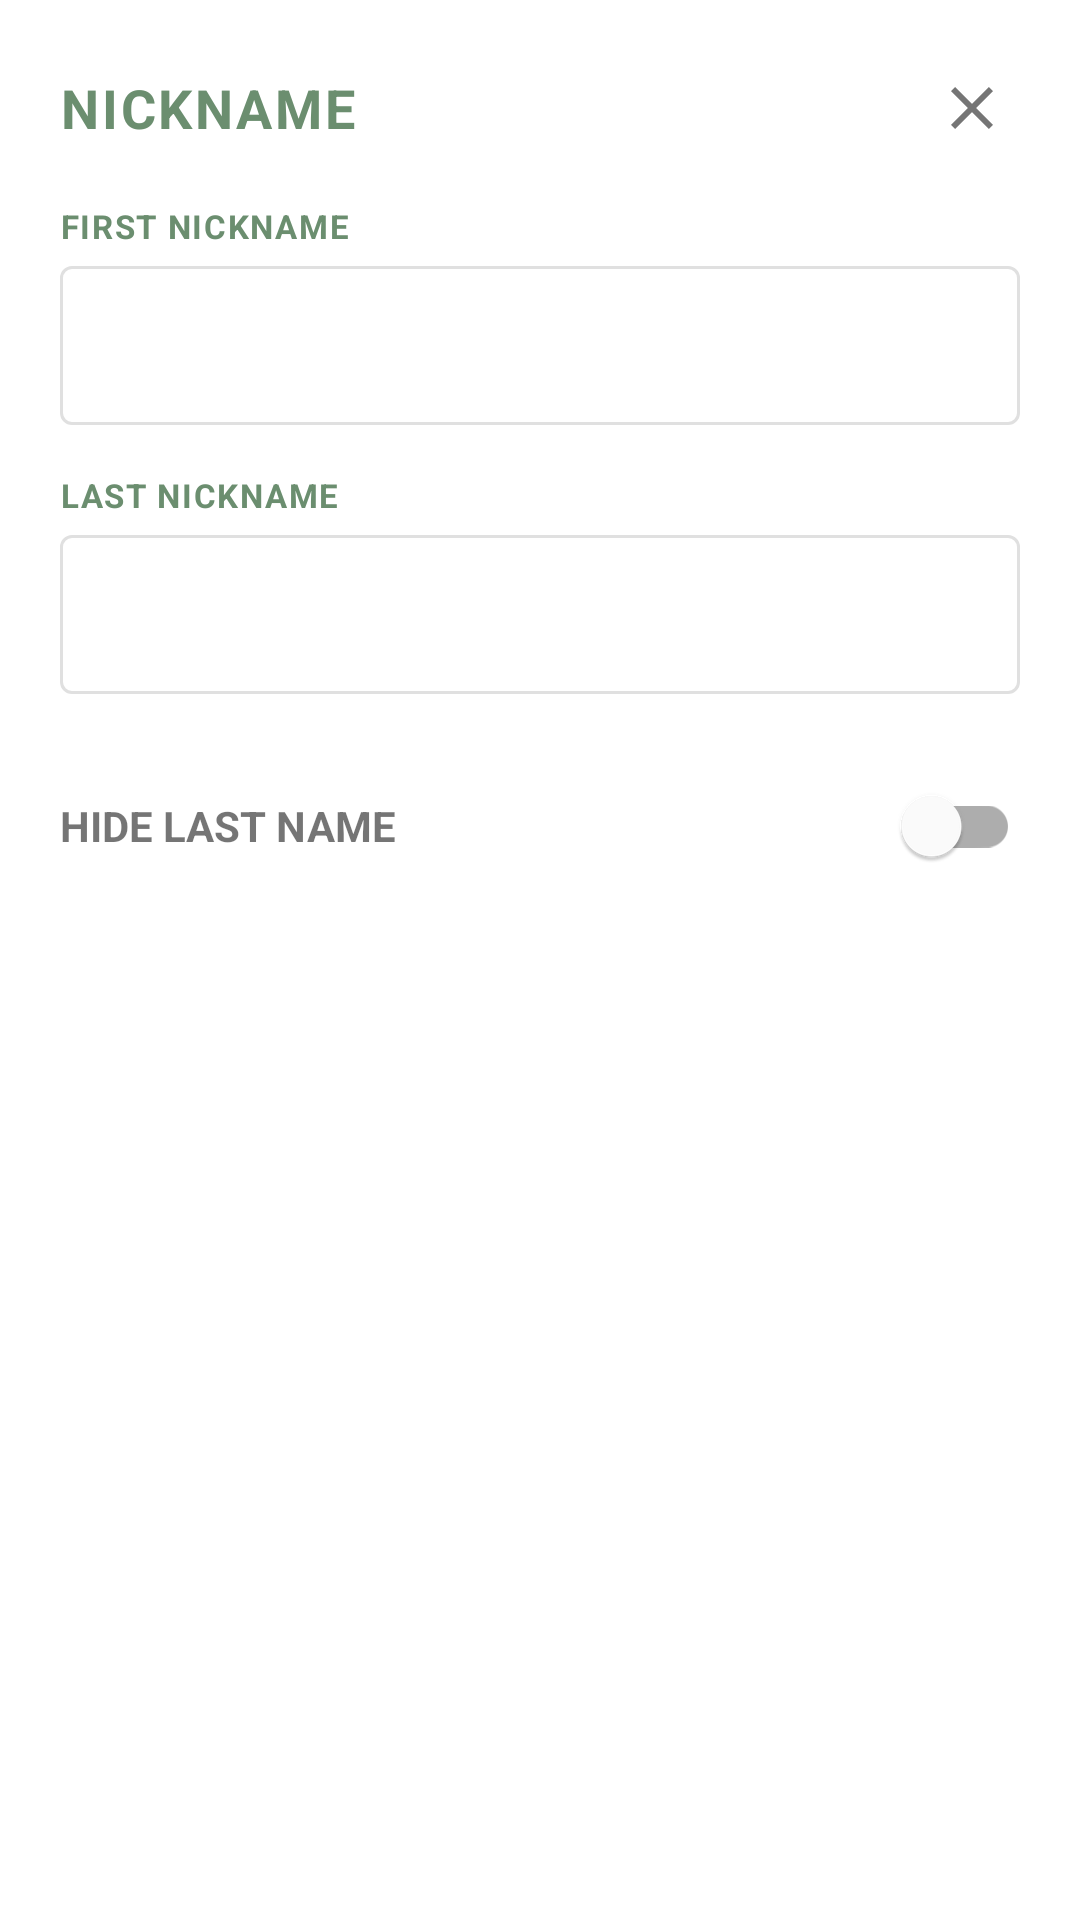

Where to tap for icons on this 1080x1920 app screen, as (x,y):
Close dialog: (972,108)
